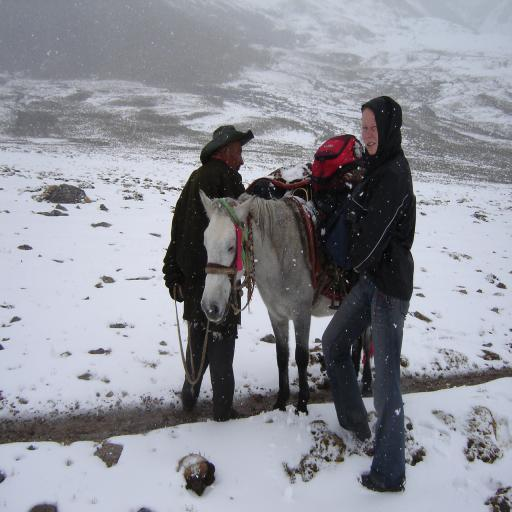horse: (200, 186, 374, 416)
